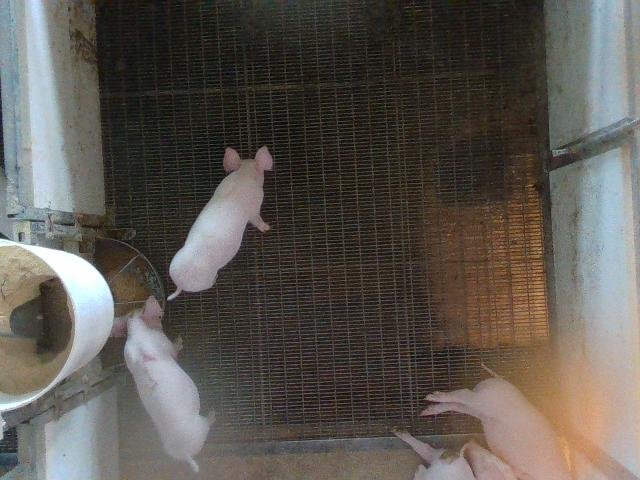pig-5: (111, 296, 214, 471)
